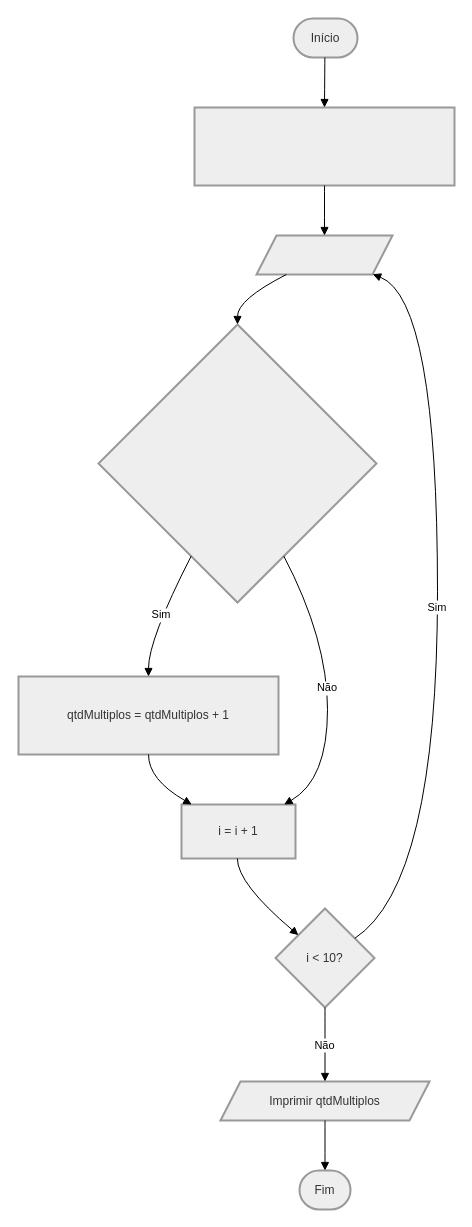
Some shapes in this 472 by 1227 pixel diagram are drawn without their labels. The shapes that lost their labels are listed below. From the top down, each one's centre as x and y in pixels, then its label:
At (x=324, y=146): "Declarar i=0, numero, qtdMultiplos=0".
At (x=324, y=254): "Ler numero".
At (x=237, y=463): "numero % 2 == 0 E numero % 3 == 0?".
